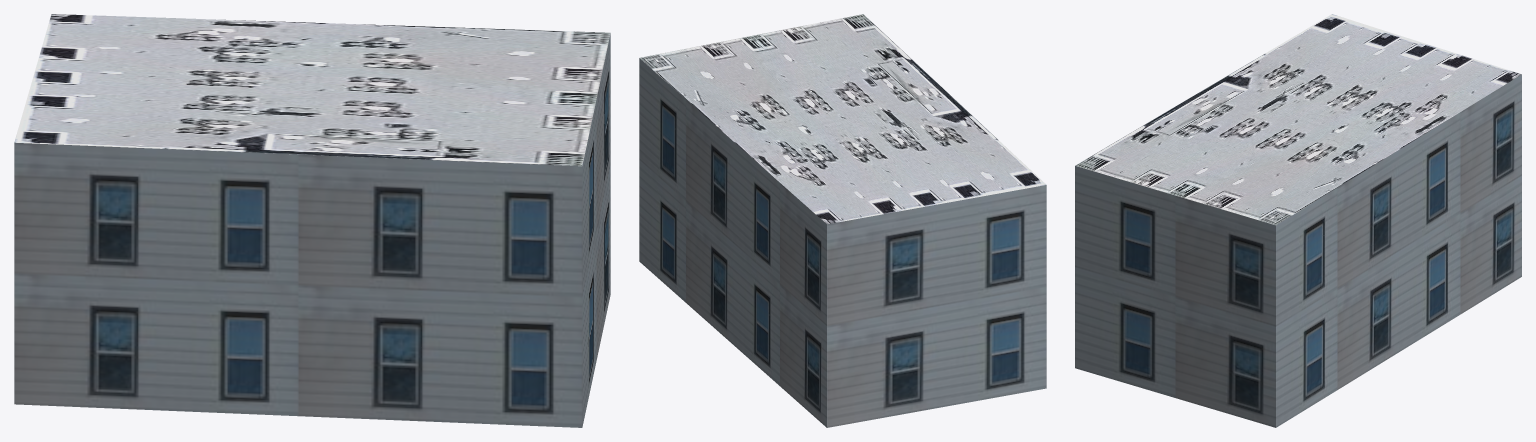
The model's file is ResTex__1985.fbx.
3 renders of one model, left to right at view 1: azimuth 30°, elevation 25°; view 2: azimuth 150°, elevation 25°; view 3: azimuth 270°, elevation 25°, orthographic. The views are drawn at different scales.
Parts seen in each view (by area): view 1: CityEngineMaterial_18_m, CityEngineMaterial_4_m; view 2: CityEngineMaterial_18_m, CityEngineMaterial_4_m; view 3: CityEngineMaterial_18_m, CityEngineMaterial_4_m.
Part boxes in pixels (bbox=[...]): CityEngineMaterial_18_m: bbox=[14, 34, 610, 427]; CityEngineMaterial_4_m: bbox=[14, 14, 610, 166]; CityEngineMaterial_18_m: bbox=[639, 58, 1046, 427]; CityEngineMaterial_4_m: bbox=[640, 14, 1046, 224]; CityEngineMaterial_18_m: bbox=[1075, 74, 1521, 427]; CityEngineMaterial_4_m: bbox=[1075, 14, 1521, 225].
Size of the model in its own units: 13.44 by 6 by 12.
2 materials, 2 textured.
